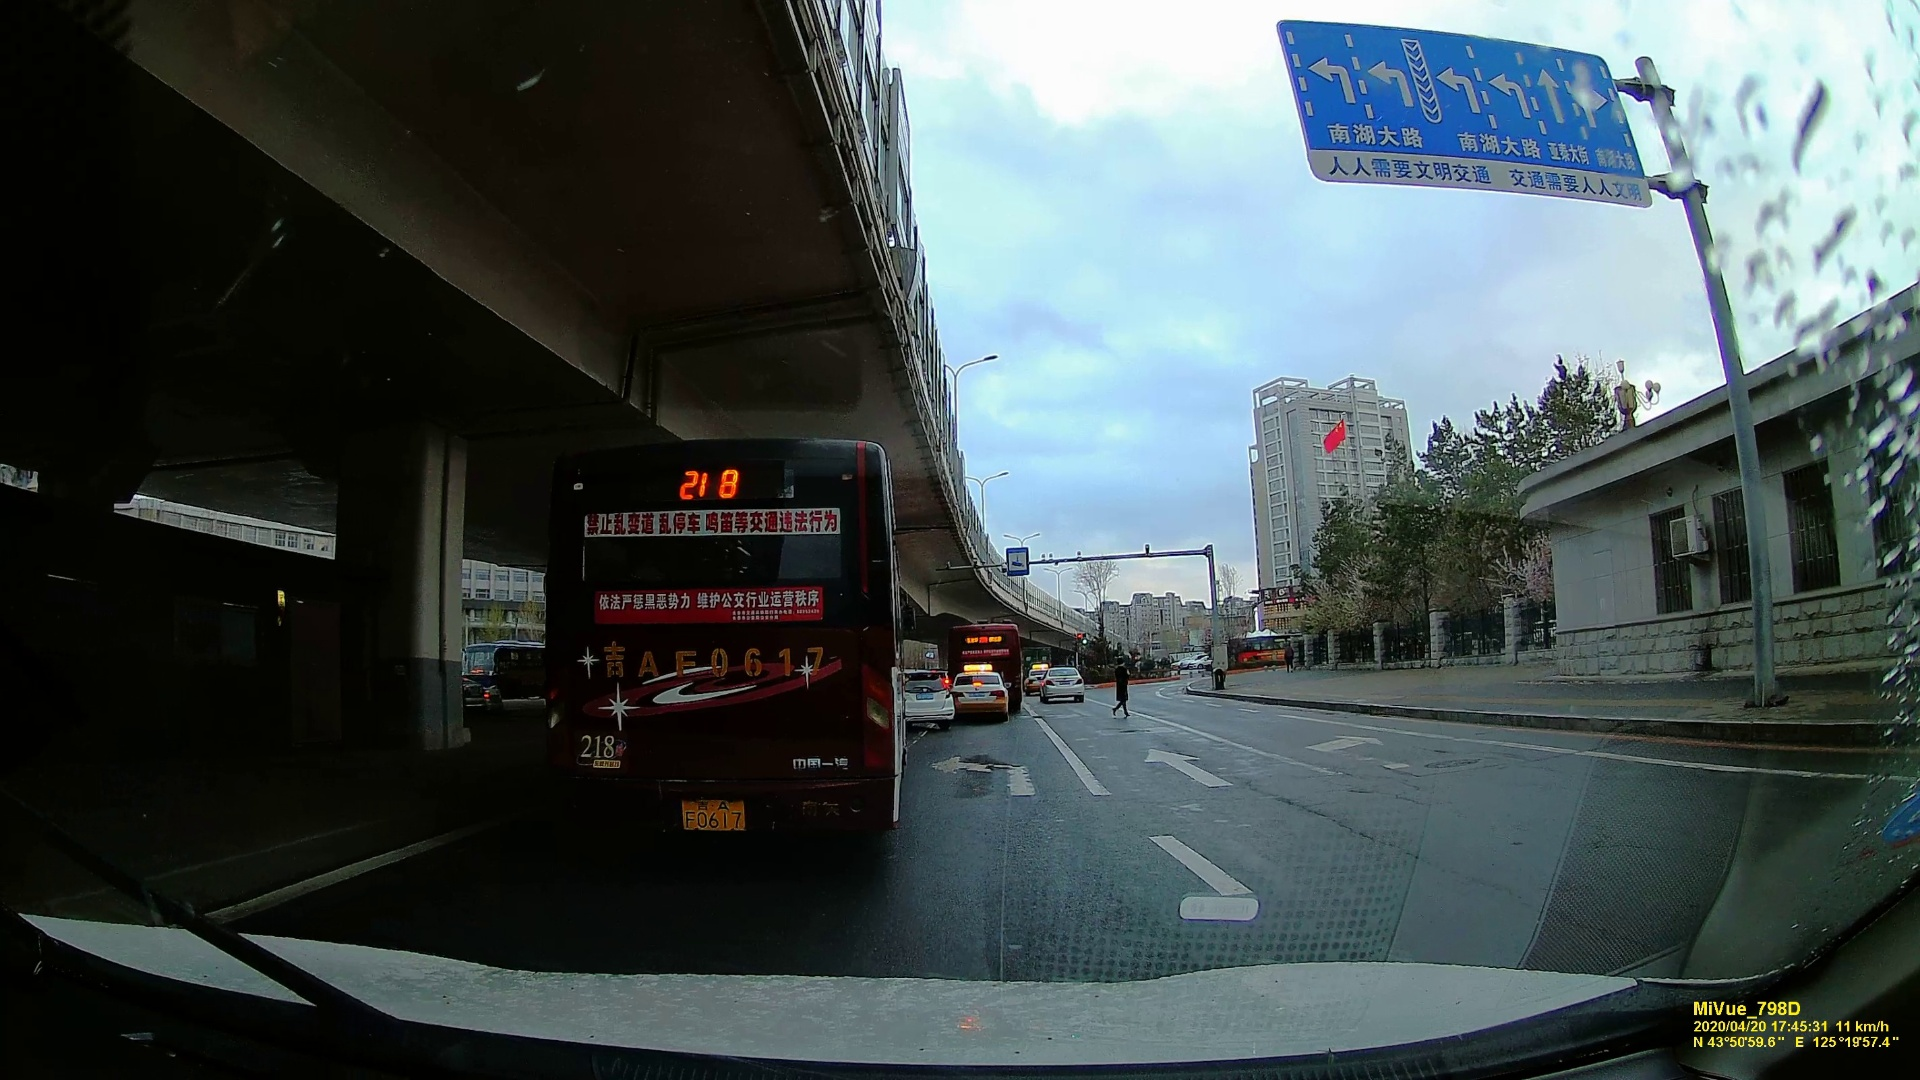bus: (540, 448, 892, 848), (951, 623, 1017, 695)
person: (1109, 656, 1129, 714), (1282, 642, 1295, 671)
traffic_sign: (1308, 24, 1608, 202), (1006, 546, 1028, 576)
vehicle: (895, 667, 957, 727), (951, 673, 1010, 716), (1041, 668, 1087, 701)
